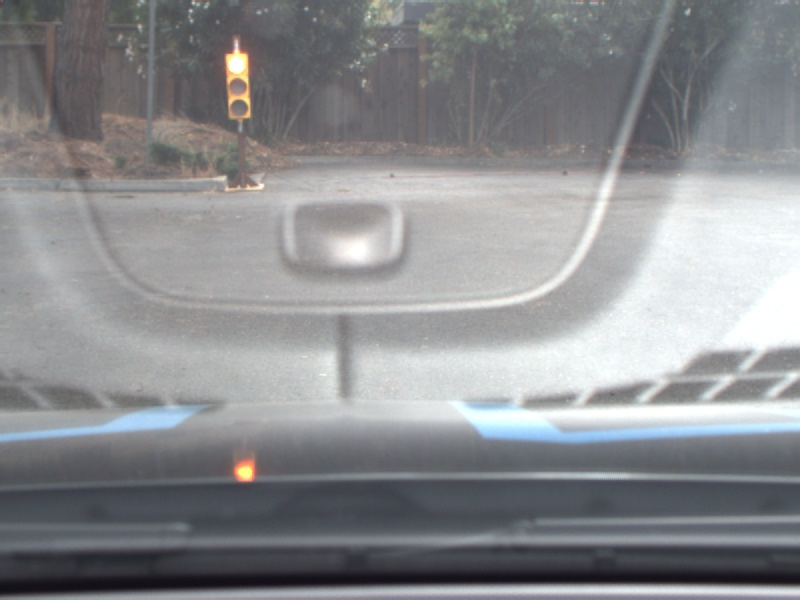red: (221, 49, 257, 123)
